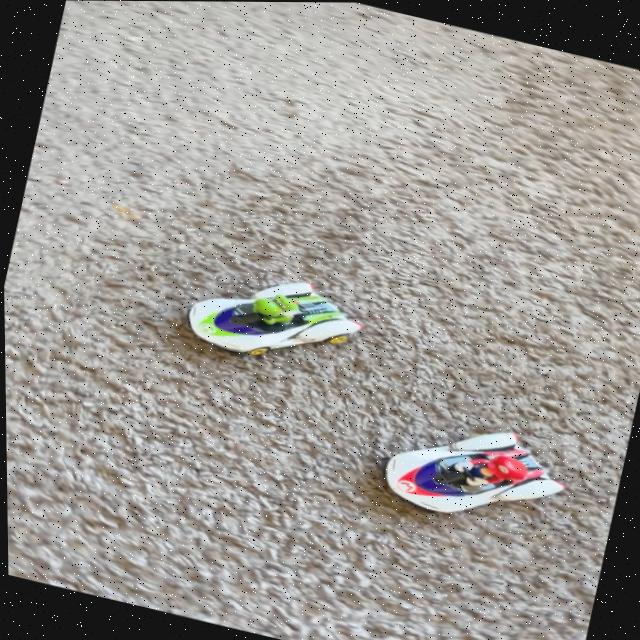mario: (355, 391, 585, 550)
yoshi: (168, 253, 380, 388)
